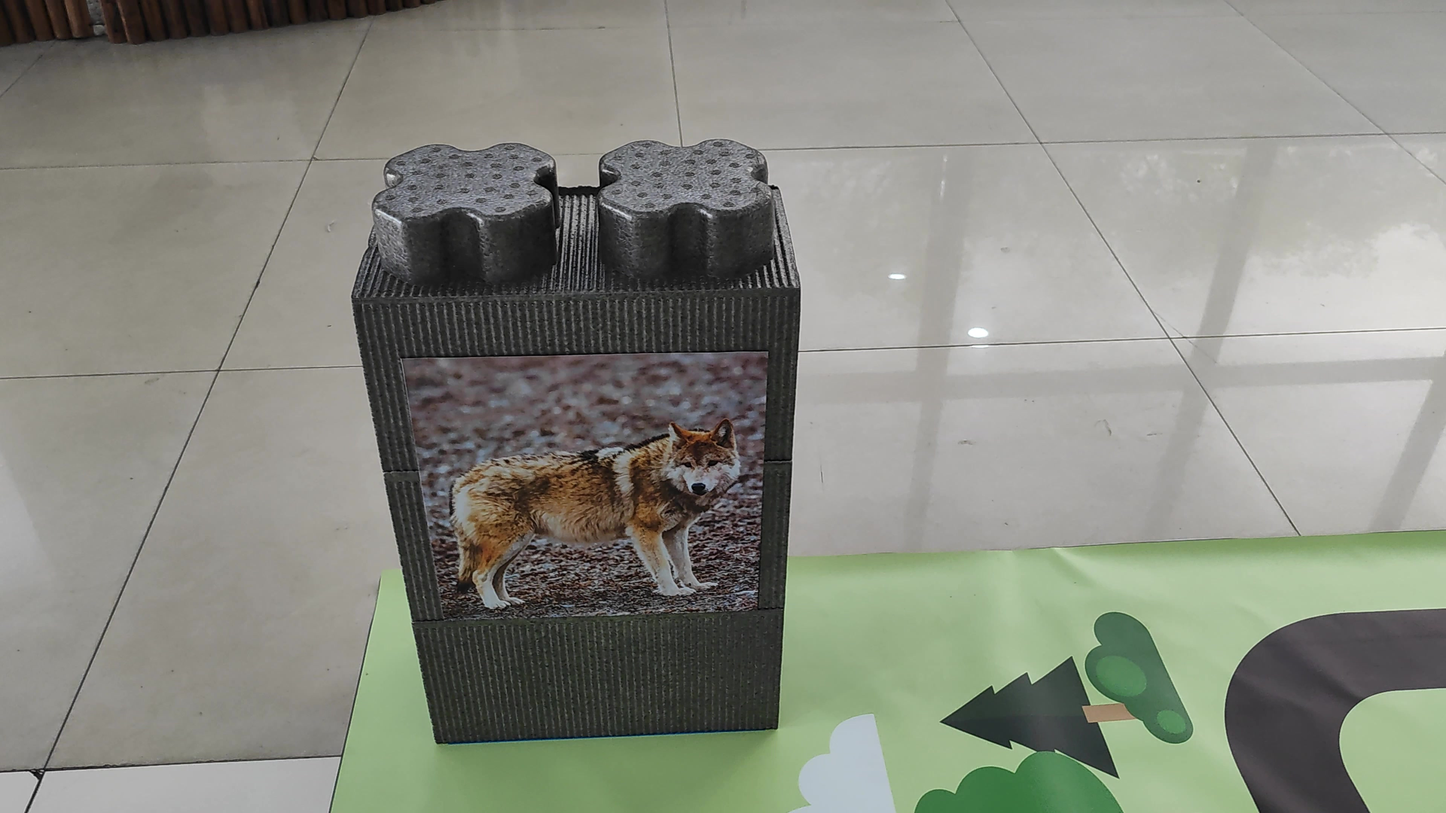wolf: (409, 402, 753, 625)
